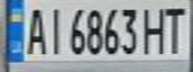3: (118, 3, 142, 55)
6: (63, 2, 87, 55), (103, 3, 124, 55)
8: (84, 3, 106, 55)
A: (21, 2, 48, 56)
H: (139, 2, 172, 55)
I: (42, 2, 66, 55)
T: (160, 2, 190, 54)
